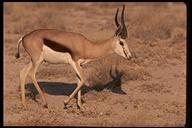antelope: (15, 4, 133, 111)
grass: (89, 66, 155, 86), (130, 14, 184, 38)
